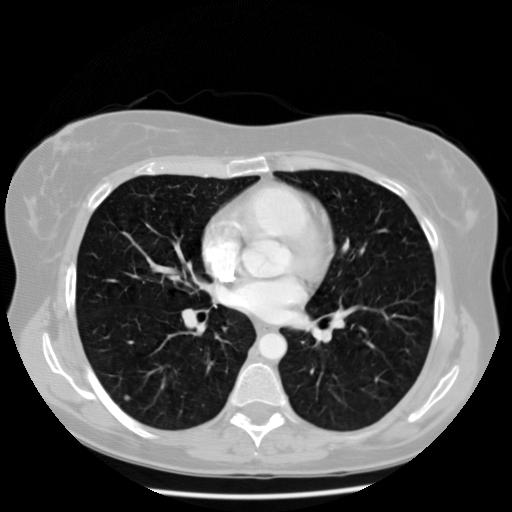nodule: (120, 391, 133, 404)
